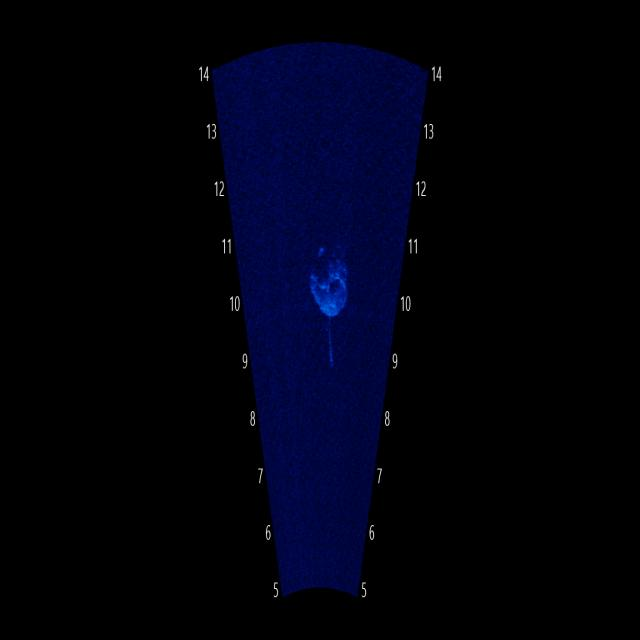circle: (305, 225, 359, 334)
